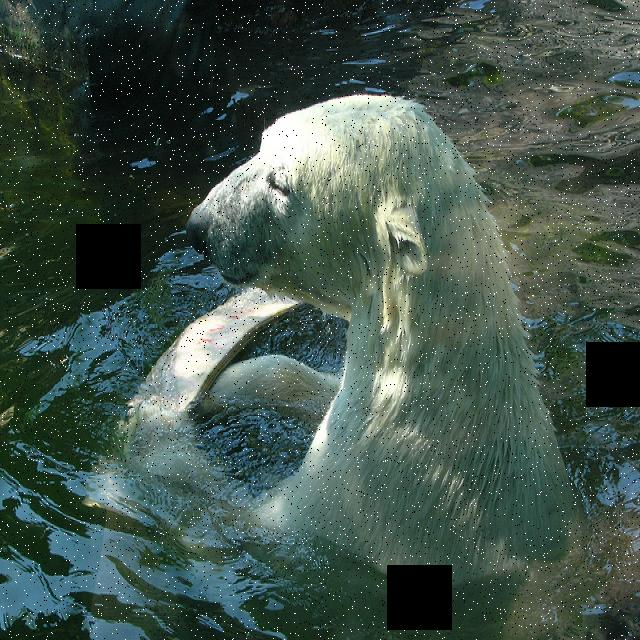Bear: (167, 76, 590, 590)
